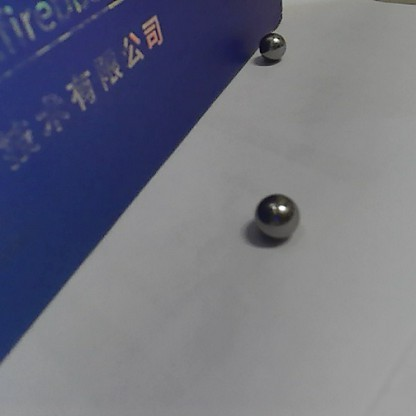ironball: (247, 189, 302, 245), (256, 28, 287, 63)
